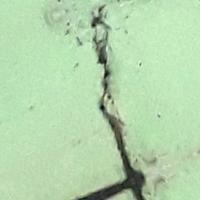crack: (74, 0, 153, 199)
